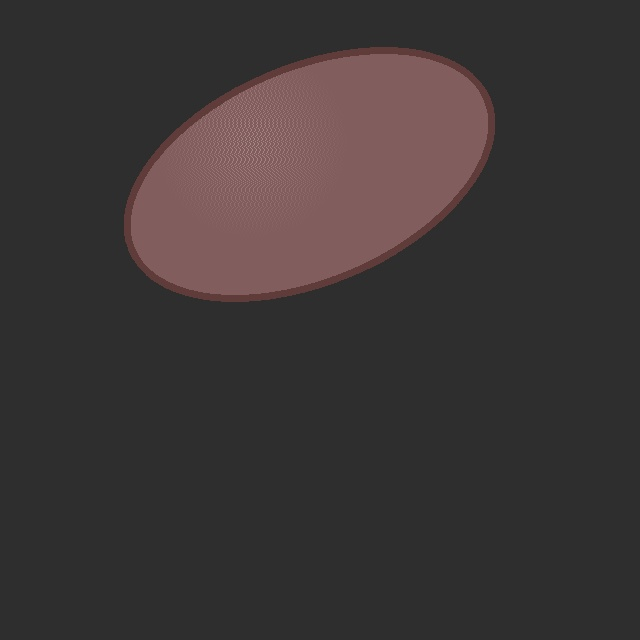lens: (127, 51, 491, 297)
